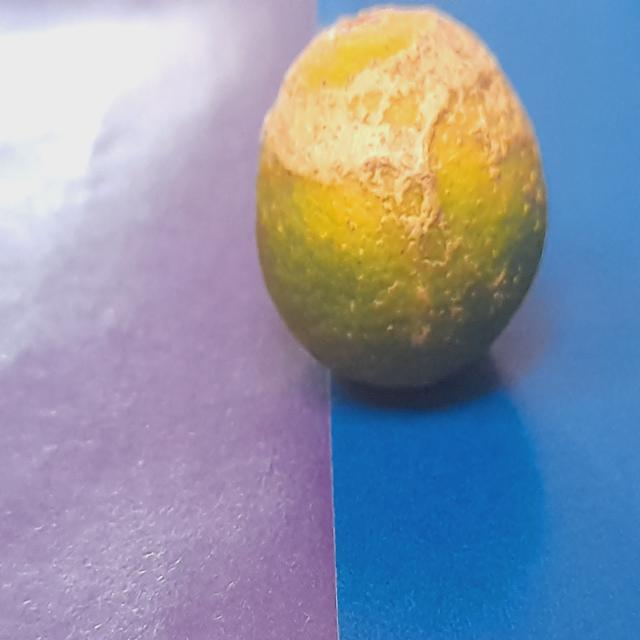thrips: (252, 19, 546, 378)
